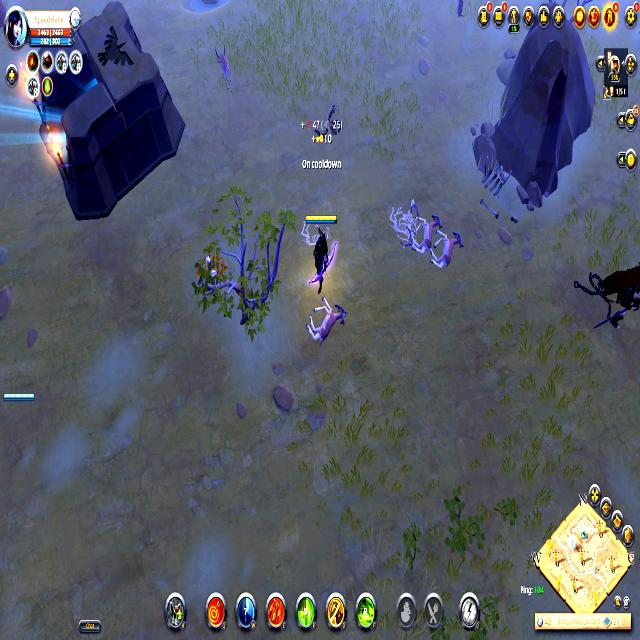hide: (192, 244, 229, 298)
mob: (302, 294, 348, 348), (424, 226, 464, 268), (409, 212, 444, 253)
ore: (587, 255, 640, 338), (213, 40, 235, 98)
red: (302, 209, 338, 292), (1, 389, 38, 407)
